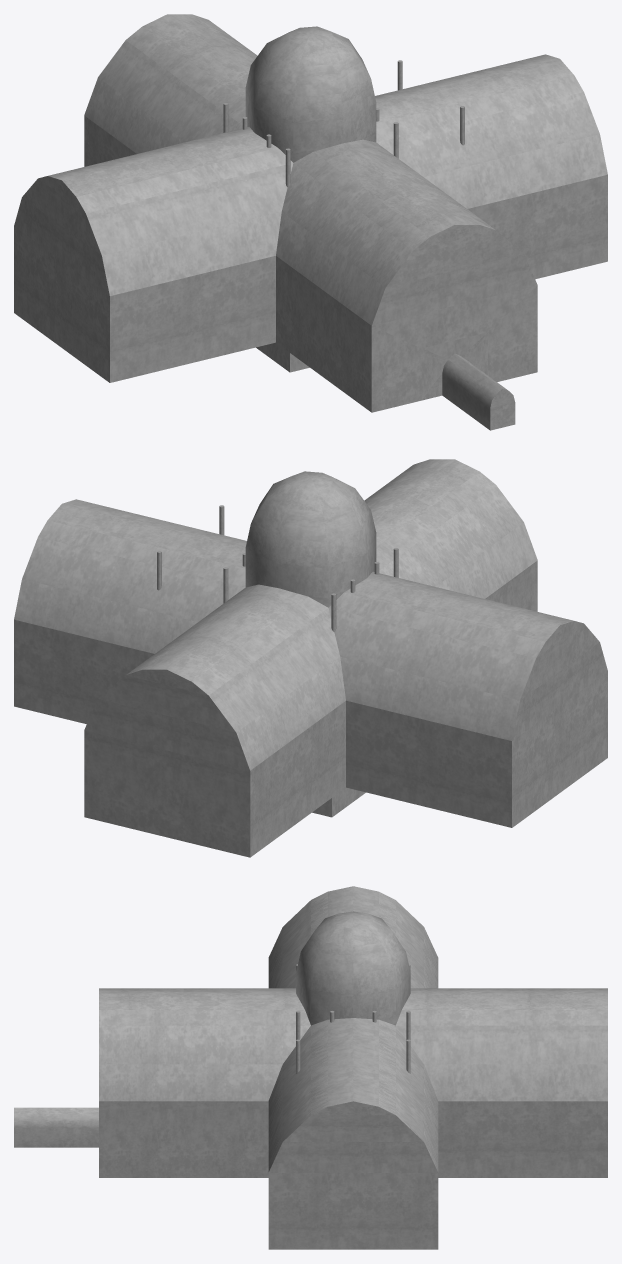
The model's file is TestRoom.FBX.
The picture shows the model from 3 angles, top to bottom: view 1: azimuth 30°, elevation 25°; view 2: azimuth 150°, elevation 25°; view 3: azimuth 270°, elevation 25°; orthographic projection. The views are drawn at different scales.
Visible parts, largest first — view 1: Celing, Walls, Pillars; view 2: Celing, Walls, Pillars; view 3: Celing, Walls, Pillars.
Boxes of the visible parts, <box> form: Celing: <box>48,14,607,325</box>; Walls: <box>14,116,607,430</box>; Pillars: <box>223,60,464,187</box>; Celing: <box>14,459,573,770</box>; Walls: <box>14,560,607,857</box>; Pillars: <box>157,505,398,632</box>; Celing: <box>99,886,607,1172</box>; Walls: <box>14,1101,607,1249</box>; Pillars: <box>296,964,410,1073</box>.
Bounding box in the file's own units: 60 × 35.33 × 70.
